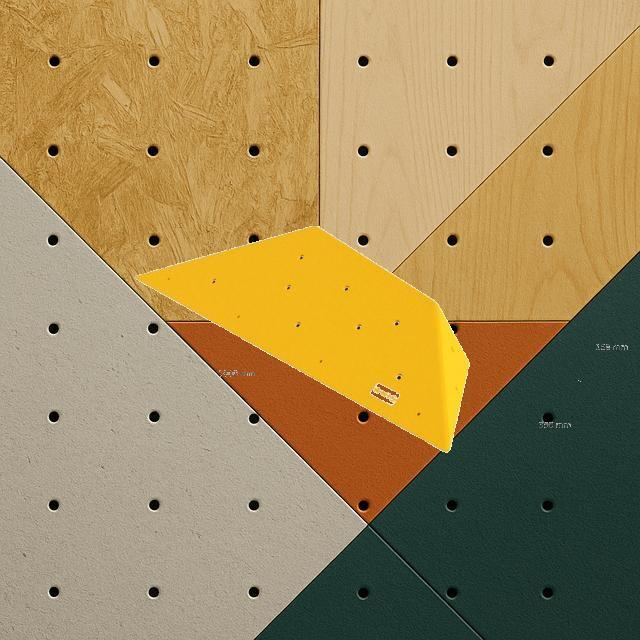Volume: (132, 224, 470, 454)
